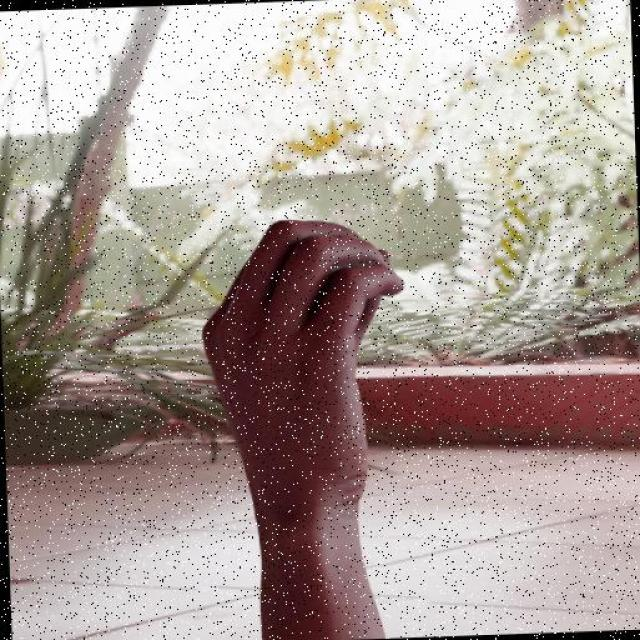O: (194, 212, 416, 504)
